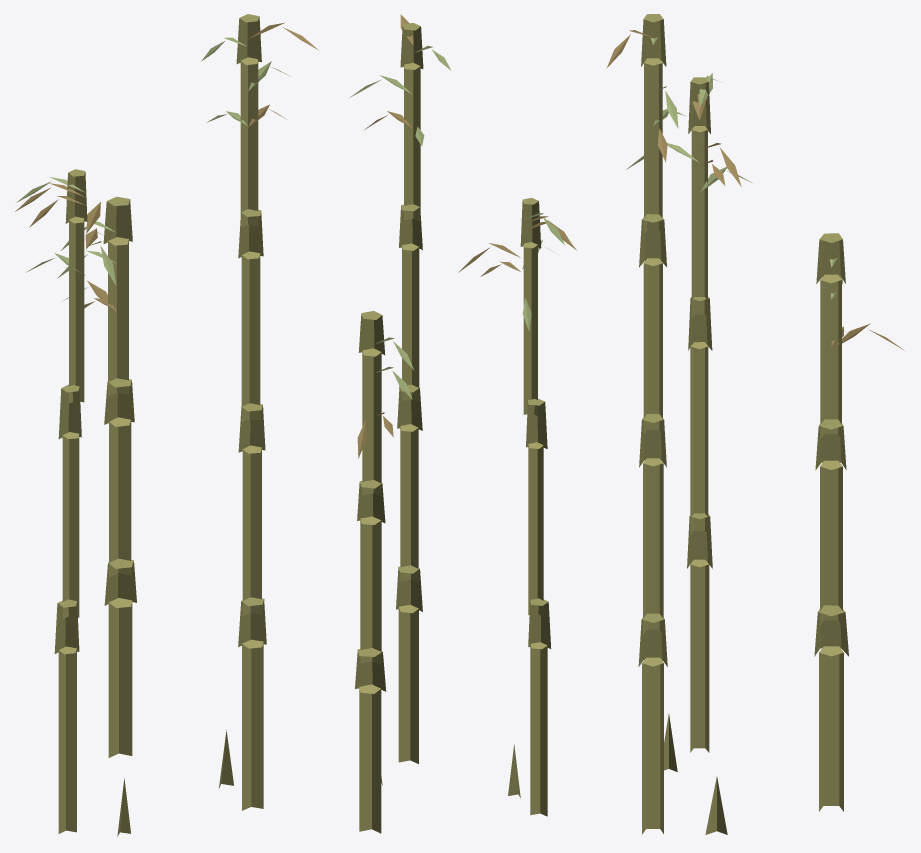
Rendered from shu.maozhu__autumn.glb.
3 views of the same model, side by side, from view 1: azimuth 30°, elevation 25°; view 2: azimuth 150°, elevation 25°; view 3: azimuth 270°, elevation 25° (orthographic). The views are drawn at different scales.
Visible parts, largest first — view 1: shu.maozhu__autumn; view 2: shu.maozhu__autumn; view 3: shu.maozhu__autumn.
Boxes of the visible parts, bbox=[...] form: shu.maozhu__autumn: bbox=[15, 14, 319, 836]; shu.maozhu__autumn: bbox=[350, 14, 576, 833]; shu.maozhu__autumn: bbox=[606, 14, 904, 834].
Size of the model in its own units: 3.12 by 9.07 by 3.03.
